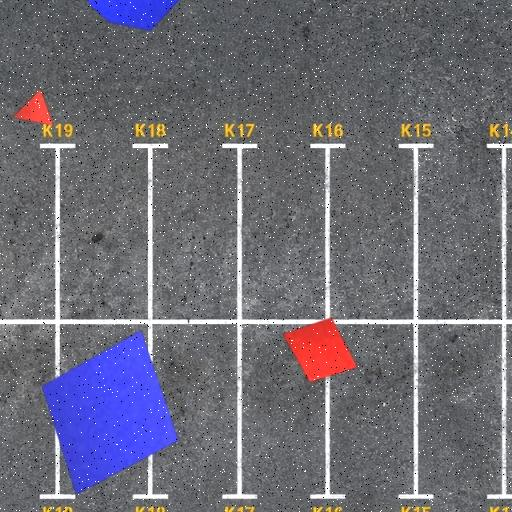BLUE_SQUARE: (41, 330, 179, 496)
RED_SQUARE: (282, 317, 358, 383)
